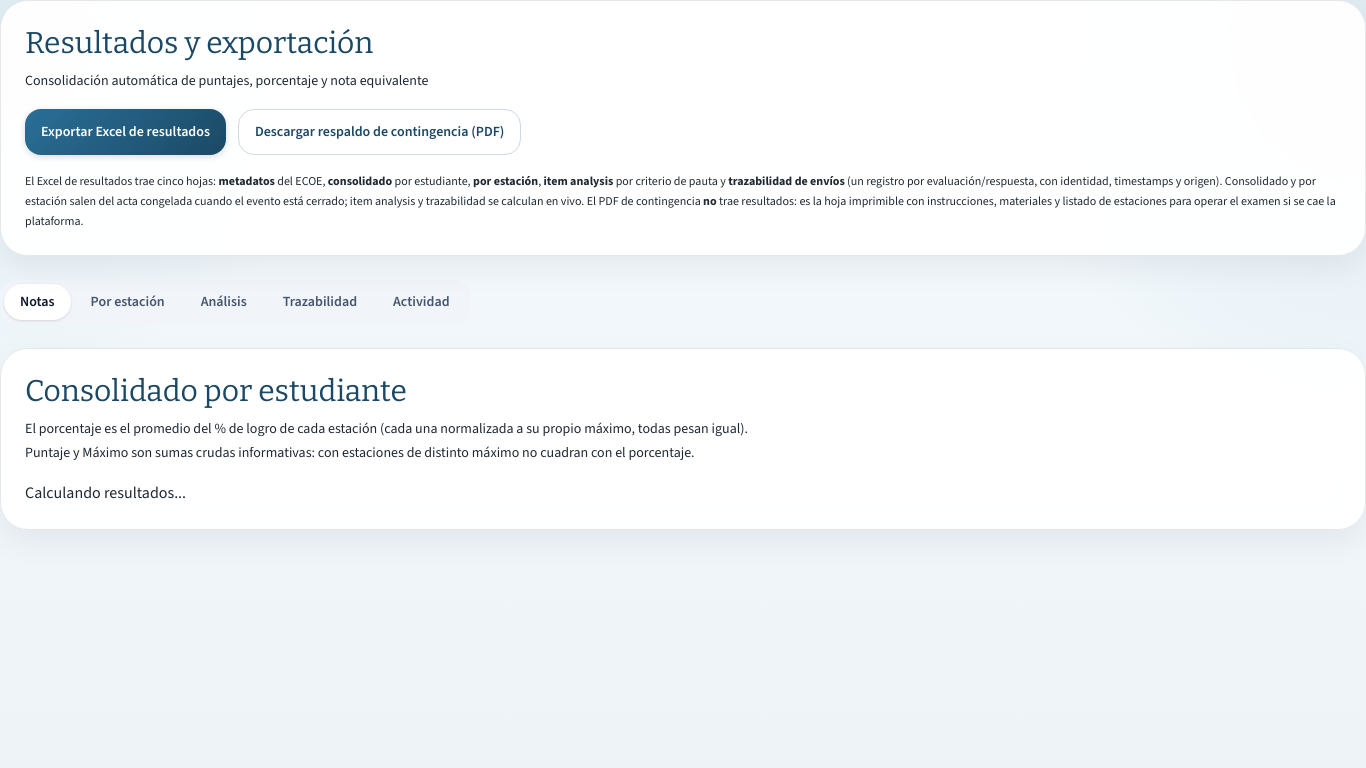
Scenario: ResultsPage — análisis de respuestas OPT-18 › degrada sin romper cuando no hay datos psicométricos
Click the tab "Análisis" at coordinates (224, 302), box [185,284,263,320]
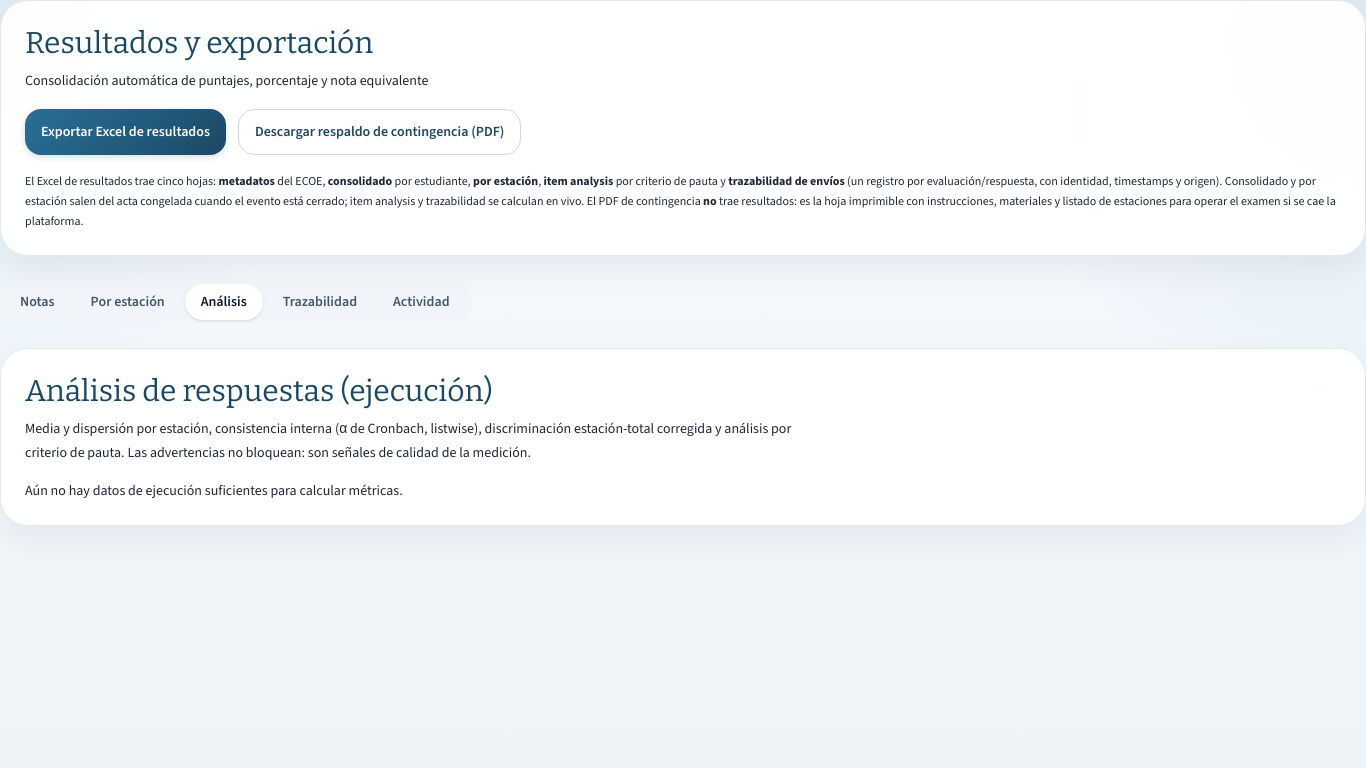
Expected: the heading "Análisis de respuestas (ejecución)" is shown, [25,373,493,409]
Expected: the text "Aún no hay datos de ejecución suficientes" is shown, [25,481,403,500]
